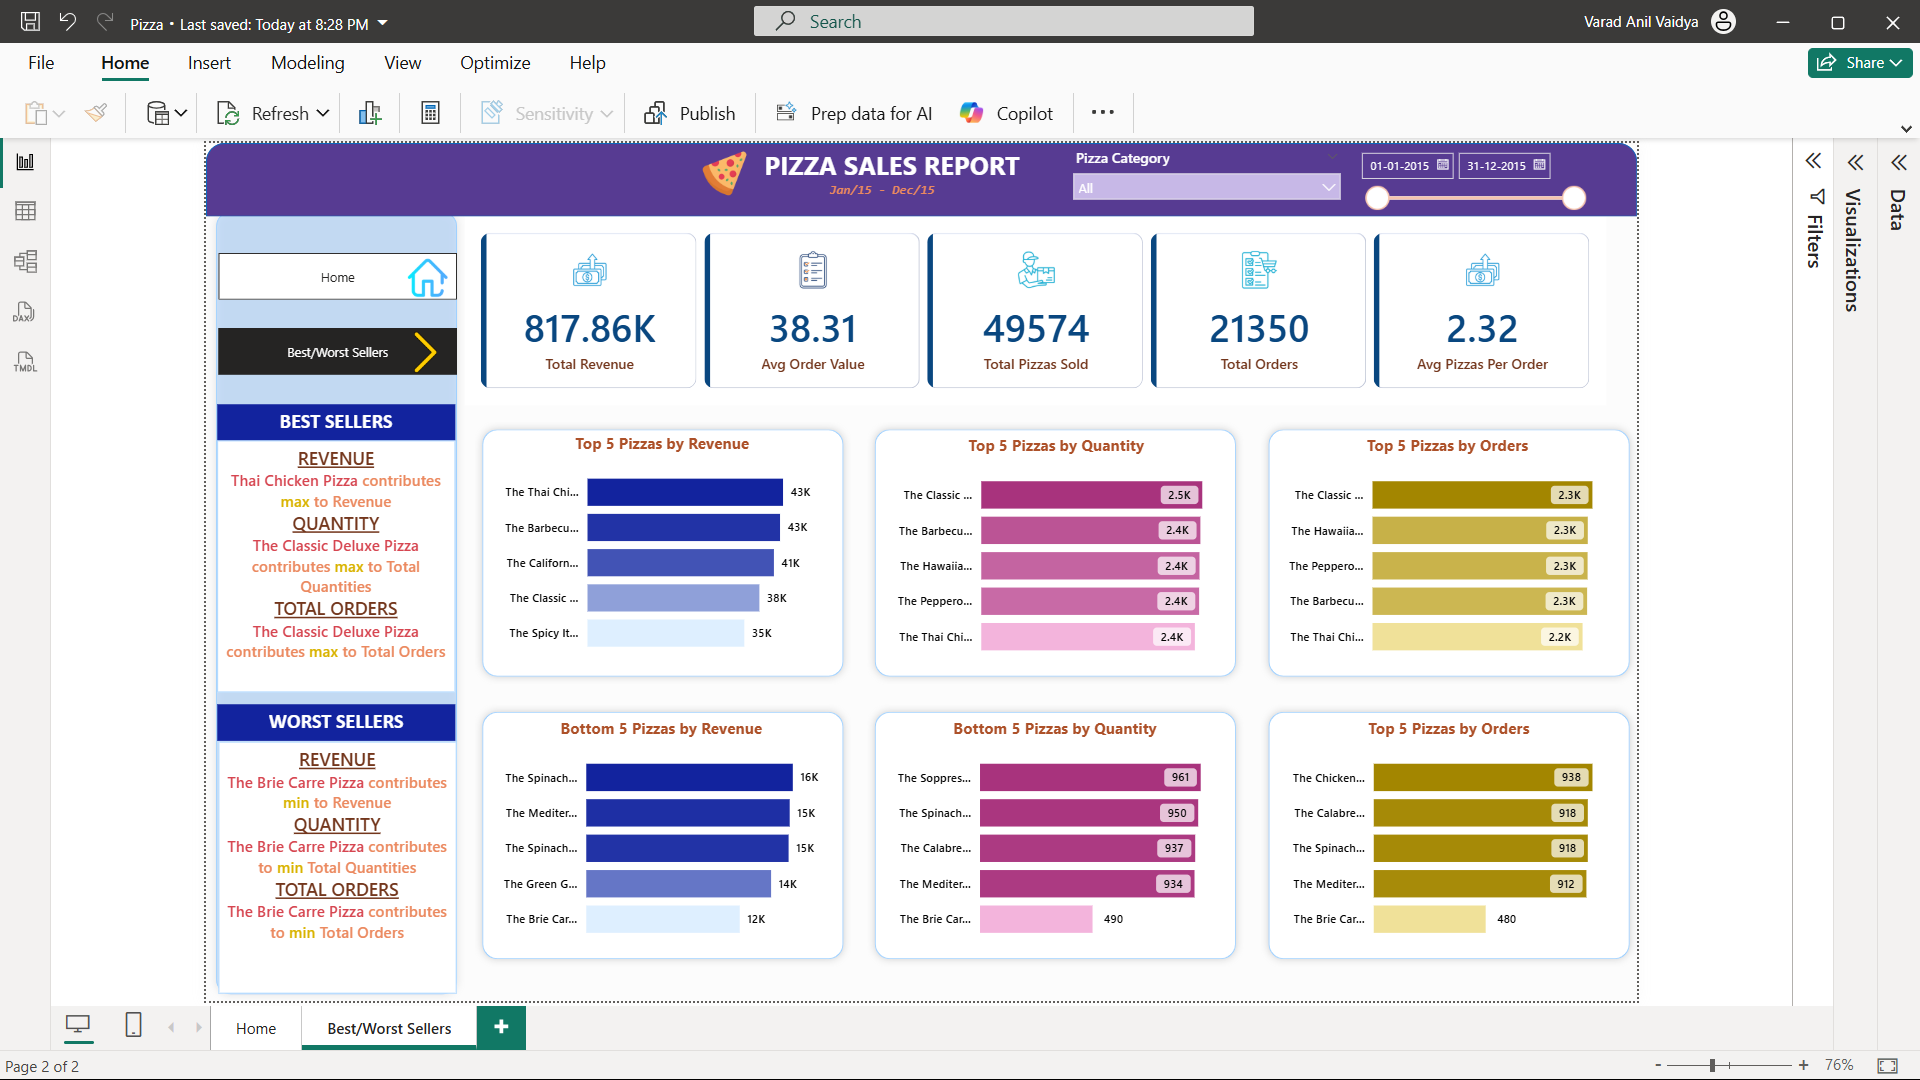

Layout of this report page (visuals, bound fields, positions):
{"tool":"powerbi","page":{"name":"Best/Worst Sellers","canvas":[1500,900],"ordinal":1},"visuals":[{"type":"shape","box":[3.2,64.3,268.5,836.2],"z":0},{"type":"textbox","box":[11.3,273.4,249.3,38.6],"z":1000},{"type":"cardVisual","fields":{"Data":["pizza_sales.Total Revenue","pizza_sales.Avg Order Value","pizza_sales.Total Pizzas Sold","pizza_sales.Total Orders","pizza_sales.Avg Pizzas Per Order"]},"box":[271.8,77.2,1196.4,197.8],"z":2000},{"type":"shape","box":[0,0,1500.3,77.2],"z":3000},{"type":"textbox","box":[580.5,0,289.5,45],"z":4000},{"type":"textbox","box":[648.1,33.8,152.8,30.6],"z":5000},{"type":"image","box":[490.5,8,107.7,48.2],"z":6000},{"type":"textbox","box":[11.3,312,249.3,263.7],"z":7000},{"type":"textbox","box":[11.3,588.6,249.3,38.6],"z":8000},{"type":"textbox","box":[12.9,627.1,249.3,263.7],"z":9000},{"type":"slicer","fields":{"Values":["pizza_sales.pizza_category"]},"box":[898.9,0,300.7,64.3],"z":10000},{"type":"slicer","fields":{"Values":["pizza_sales.order_date"]},"box":[1199.6,0,255.7,77.2],"z":11000},{"type":"shape","box":[1106,292.2,394.4,275.2],"z":12000},{"type":"shape","box":[693.2,292.2,394.4,275.2],"z":13000},{"type":"shape","box":[281.7,292.2,394.4,275.2],"z":14000},{"type":"shape","box":[281.7,588.4,394.4,275.2],"z":15000},{"type":"shape","box":[693.2,588.4,394.4,275.2],"z":16000},{"type":"shape","box":[1106,588.4,394.4,275.2],"z":17000},{"type":"barChart","title":"Top 5 Pizzas by Revenue","fields":{"Category":["pizza_sales.pizza_name"],"Y":["pizza_sales.Total Revenue"]},"box":[296.2,302.7,364.3,246.4],"z":18000},{"type":"barChart","title":"Bottom 5 Pizzas by Revenue","fields":{"Category":["pizza_sales.pizza_name"],"Y":["pizza_sales.Total Revenue"]},"box":[294.3,601.4,365,247.6],"z":19000},{"type":"barChart","title":"Top 5 Pizzas by Quantity","fields":{"Category":["pizza_sales.pizza_name"],"Y":["pizza_sales.Total Pizzas Sold"]},"box":[709.2,305.5,365,247.6],"z":20000},{"type":"barChart","title":"Bottom 5 Pizzas by Quantity","fields":{"Category":["pizza_sales.pizza_name"],"Y":["pizza_sales.Total Pizzas Sold"]},"box":[707.5,601.4,365,247.6],"z":21000},{"type":"barChart","title":"Top 5 Pizzas by Orders","fields":{"Category":["pizza_sales.pizza_name"],"Y":["pizza_sales.Total Orders"]},"box":[1119.2,305.5,365,247.6],"z":22000},{"type":"barChart","title":"Top 5 Pizzas by Orders","fields":{"Category":["pizza_sales.pizza_name"],"Y":["pizza_sales.Total Orders"]},"box":[1120.8,601.4,365,247.6],"z":22001},{"type":"pageNavigator","box":[12.9,194.6,250.9,49.9],"z":22002},{"type":"pageNavigator","box":[12.9,115.8,250.9,49.9],"z":22003},{"type":"image","box":[196.2,197.8,67.5,43.4],"z":22004},{"type":"image","box":[204.2,120.6,56.3,41.8],"z":22005}]}

Visuals, with their boxes on the page's 1500x900 design canvas (x1, y1, x2, y2). These are canvas units, not pixel positions in the 1920x1080 screenshot, which may show the page scaled, cropped or inside an application window:
shape: l=3, t=64, r=272, b=900
textbox: l=11, t=273, r=261, b=312
cardVisual - pizza_sales.Total Revenue x pizza_sales.Avg Order Value: l=272, t=77, r=1468, b=275
shape: l=0, t=0, r=1500, b=77
textbox: l=580, t=0, r=870, b=45
textbox: l=648, t=34, r=801, b=64
image: l=490, t=8, r=598, b=56
textbox: l=11, t=312, r=261, b=576
textbox: l=11, t=589, r=261, b=627
textbox: l=13, t=627, r=262, b=891
slicer - pizza_sales.pizza_category: l=899, t=0, r=1200, b=64
slicer - pizza_sales.order_date: l=1200, t=0, r=1455, b=77
shape: l=1106, t=292, r=1500, b=567
shape: l=693, t=292, r=1088, b=567
shape: l=282, t=292, r=676, b=567
shape: l=282, t=588, r=676, b=864
shape: l=693, t=588, r=1088, b=864
shape: l=1106, t=588, r=1500, b=864
"Top 5 Pizzas by Revenue" barChart: l=296, t=303, r=660, b=549
"Bottom 5 Pizzas by Revenue" barChart: l=294, t=601, r=659, b=849
"Top 5 Pizzas by Quantity" barChart: l=709, t=306, r=1074, b=553
"Bottom 5 Pizzas by Quantity" barChart: l=708, t=601, r=1072, b=849
"Top 5 Pizzas by Orders" barChart: l=1119, t=306, r=1484, b=553
"Top 5 Pizzas by Orders" barChart: l=1121, t=601, r=1486, b=849
pageNavigator: l=13, t=195, r=264, b=244
pageNavigator: l=13, t=116, r=264, b=166
image: l=196, t=198, r=264, b=241
image: l=204, t=121, r=260, b=162
